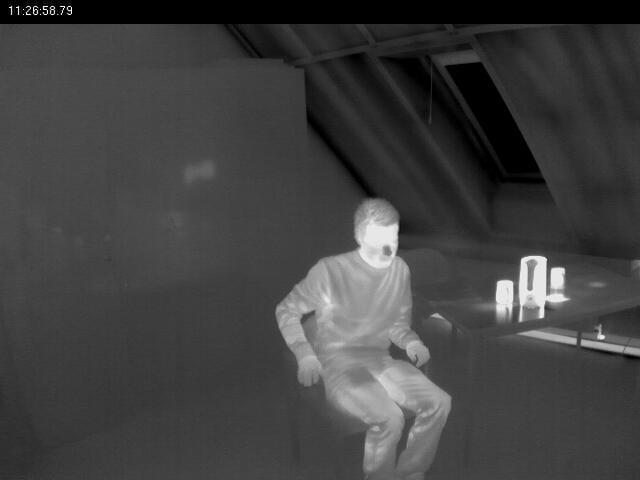person: (276, 195, 464, 480)
